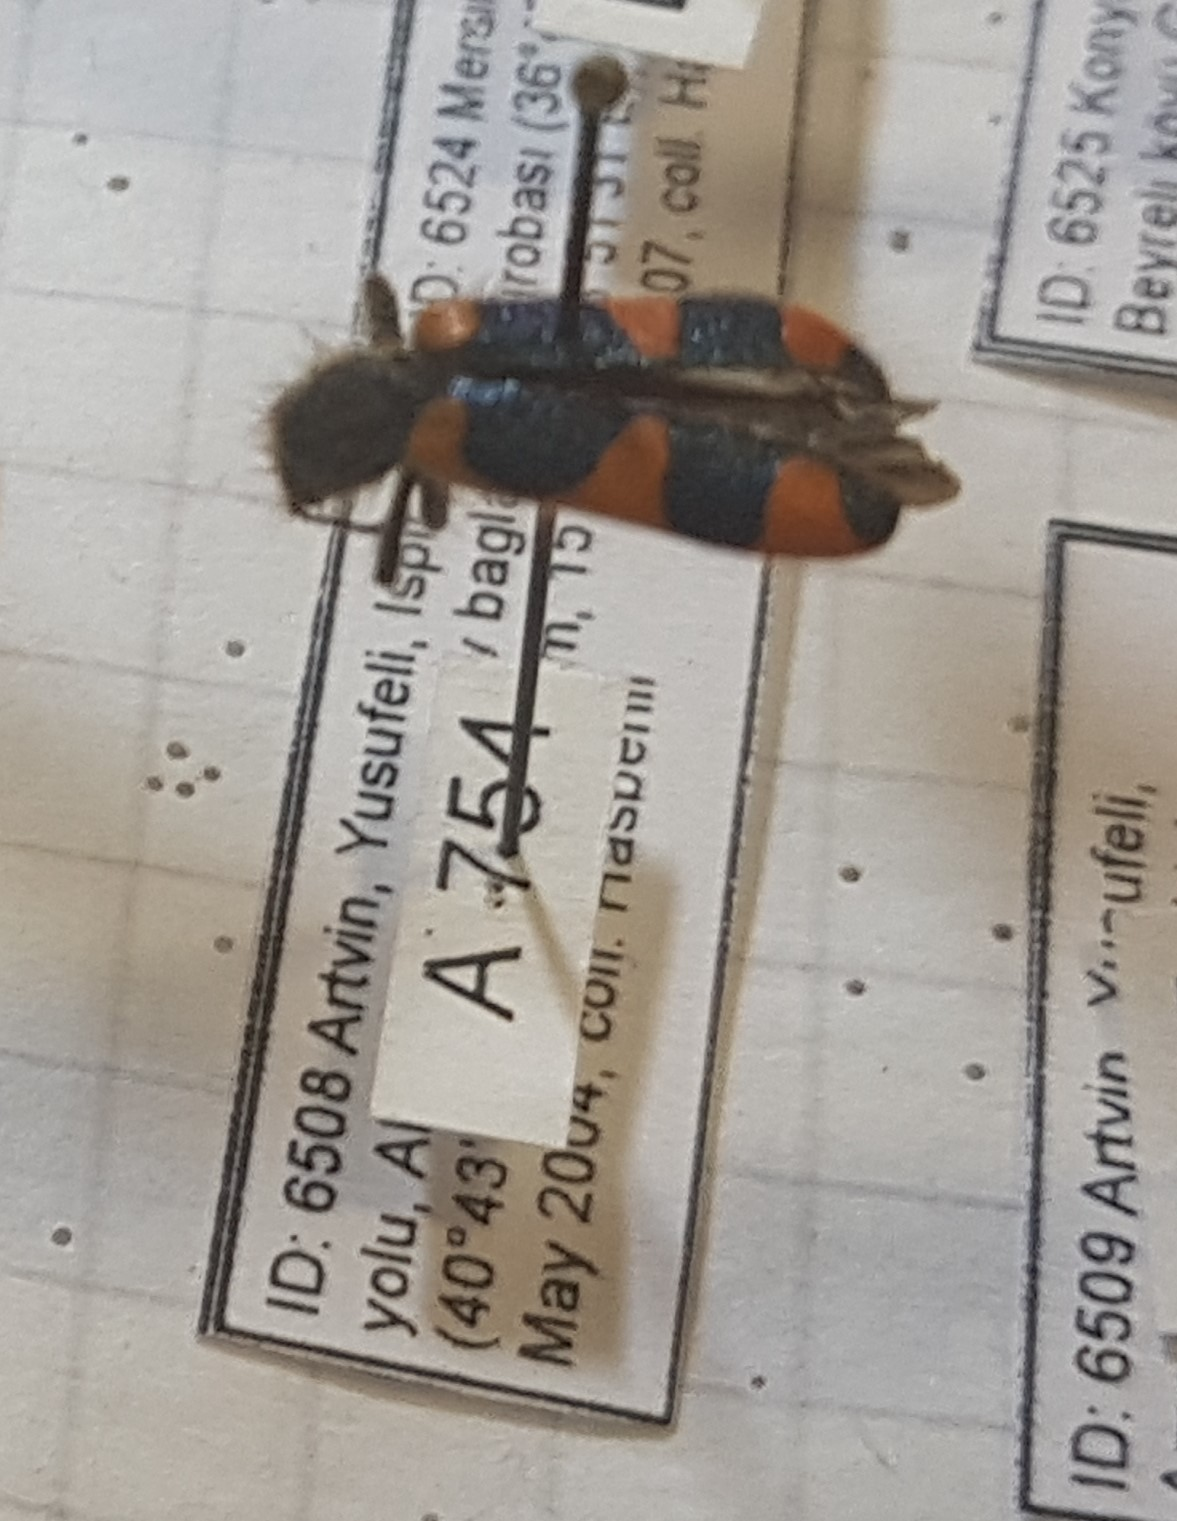trichodes_holtzi: (220, 254, 986, 610)
